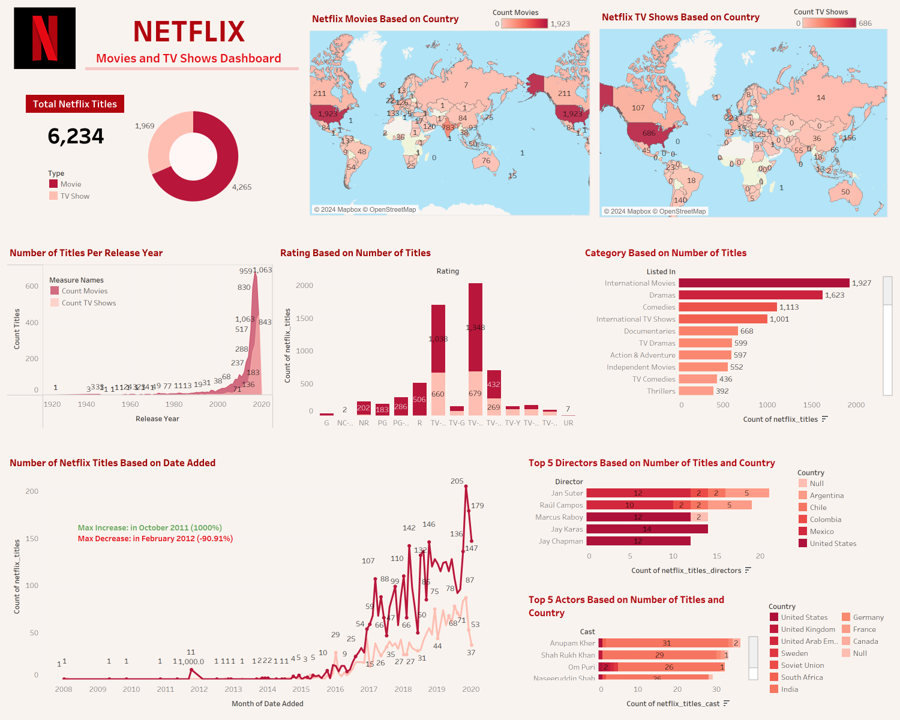

What the dashboard file says about the page in this screenshot:
{"tool":"tableau","page":{"name":"Dashboard","canvas":[1500,1200],"ordinal":0},"visuals":[{"type":"legend","title":"Netflix TV Shows Based on Country","param":"[federated.0mvc2790ucokws114fsf30cu6jyp].[sum:Calculation_2202541711807135752:qk","box":[1323,7,135,55]},{"type":"image","param":"C:/Users/Asus/Documents/Programming/IT_DIV/Tugas2/DA/netflix_logo.png","box":[8,8,134,111]},{"type":"text","box":[142,8,345,111]},{"type":"blank","box":[486.9,8,1005.1,111]},{"type":"legend","title":"Netflix Movies Based on Country","param":"[federated.0mvc2790ucokws114fsf30cu6jyp].[sum:Count TV Shows (copy)_220254171180","box":[821,8,134,40]},{"type":"worksheet","title":"Netflix TV Shows Based on Country","mark":"Automatic","box":[999,11,481,352]},{"type":"worksheet","title":"Netflix Movies Based on Country","mark":"Automatic","box":[516,14,468,346]},{"type":"blank","box":[142,112,356,5]},{"type":"blank","box":[8,119,1484,32]},{"type":"blank","box":[8,151,48,219]},{"type":"worksheet","title":"Total Netflix Titles","mark":"Automatic","box":[55.9,151,126,149]},{"type":"blank","box":[182,151,32,219]},{"type":"worksheet","title":"Count Titles","mark":"Pie","rows":["Calculation_2202541711825285132","Calculation_2202541711825338382"],"box":[214,151,216,219]},{"type":"blank","box":[430,151,1062,219]},{"type":"text","box":[43,158,164,30]},{"type":"legend","title":"Count Titles","param":"[federated.0mvc2790ucokws114fsf30cu6jyp].[none:type:nk]","box":[79,278,101,66]},{"type":"blank","box":[55.9,300,126,70]},{"type":"blank","box":[8,370,1484,30]},{"type":"worksheet","title":"Number of Titles Per Release Year","mark":"Area","rows":["Count TV Shows (copy)_2202541711807463433","Calculation_2202541711807135752"],"cols":["release_year"],"box":[8,400,451,318]},{"type":"worksheet","title":"Rating Based on Number of Titles","mark":"Automatic","rows":["netflix!titles_43816EDE78D645E49C28DA0FA1A7E5D1"],"cols":["rating"],"box":[459,400,508,318]},{"type":"worksheet","title":"Category Based on Number of Titles","mark":"Automatic","rows":["listed_in"],"cols":["netflix!titles_43816EDE78D645E49C28DA0FA1A7E5D1"],"box":[967,400,525,318]},{"type":"legend","title":"Number of Titles Per Release Year","param":"[federated.0mvc2790ucokws114fsf30cu6jyp].[:Measure Names]","box":[81,456,140,58]},{"type":"blank","box":[8,718,1484,32]},{"type":"worksheet","title":"Number of Netflix Titles Based on Date Added","mark":"Automatic","rows":["netflix!titles_43816EDE78D645E49C28DA0FA1A7E5D1"],"cols":["date_added"],"box":[8,750,817,442]},{"type":"blank","box":[825,750,48,442]},{"type":"worksheet","title":"Top 5 Directors Based on Number of Titles and Country","mark":"Automatic","rows":["director"],"cols":["netflix!titles!directors_B5807447D026494B866EC75AFAAE605D"],"box":[873,750,442,228]},{"type":"blank","box":[1315,750,177,228]},{"type":"legend","title":"Top 5 Directors Based on Number of Titles and Country","param":"[federated.0mvc2790ucokws114fsf30cu6jyp].[none:country:nk]","box":[1328,777,140,138]},{"type":"text","box":[127,859,294,58]},{"type":"worksheet","title":"Top 5 Actors Based on Number of Titles and Country","mark":"Automatic","rows":["cast"],"cols":["netflix!titles!cast_45B505214EDC413AB225EC487B41B882"],"box":[873,978,395,214]},{"type":"blank","box":[1267.9,978,224.1,214]}]}

Visuals, with their boxes in screenshot pixels (x1, y1, x2, y2), scaled from the page's 1500x1200 canvas onto the 900x720 screenshot:
"Netflix TV Shows Based on Country" legend: box(794, 4, 875, 37)
image: box(5, 5, 85, 71)
text: box(85, 5, 292, 71)
blank: box(292, 5, 895, 71)
"Netflix Movies Based on Country" legend: box(493, 5, 573, 29)
"Netflix TV Shows Based on Country" worksheet: box(599, 7, 888, 218)
"Netflix Movies Based on Country" worksheet: box(310, 8, 590, 216)
blank: box(85, 67, 299, 70)
blank: box(5, 71, 895, 91)
blank: box(5, 91, 34, 222)
"Total Netflix Titles" worksheet: box(34, 91, 109, 180)
blank: box(109, 91, 128, 222)
"Count Titles" worksheet (Pie marks): box(128, 91, 258, 222)
blank: box(258, 91, 895, 222)
text: box(26, 95, 124, 113)
"Count Titles" legend: box(47, 167, 108, 206)
blank: box(34, 180, 109, 222)
blank: box(5, 222, 895, 240)
"Number of Titles Per Release Year" worksheet (Area marks): box(5, 240, 275, 431)
"Rating Based on Number of Titles" worksheet: box(275, 240, 580, 431)
"Category Based on Number of Titles" worksheet: box(580, 240, 895, 431)
"Number of Titles Per Release Year" legend: box(49, 274, 133, 308)
blank: box(5, 431, 895, 450)
"Number of Netflix Titles Based on Date Added" worksheet: box(5, 450, 495, 715)
blank: box(495, 450, 524, 715)
"Top 5 Directors Based on Number of Titles and Country" worksheet: box(524, 450, 789, 587)
blank: box(789, 450, 895, 587)
"Top 5 Directors Based on Number of Titles and Country" legend: box(797, 466, 881, 549)
text: box(76, 515, 253, 550)
"Top 5 Actors Based on Number of Titles and Country" worksheet: box(524, 587, 761, 715)
blank: box(761, 587, 895, 715)
